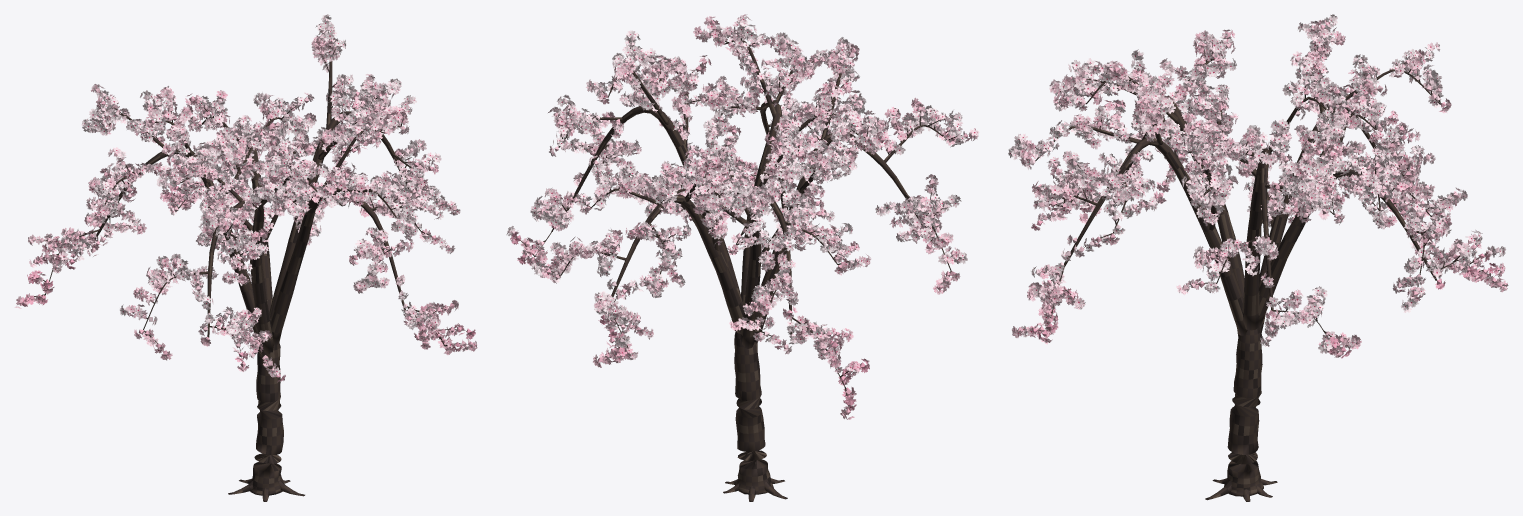
Rendered from cherry-upright.glb.
The picture shows the model from 3 angles, left to right: view 1: azimuth 30°, elevation 25°; view 2: azimuth 150°, elevation 25°; view 3: azimuth 270°, elevation 25°; orthographic projection. The views are drawn at different scales.
Visible parts, largest first — view 1: upright-03-Five-petal-blossoms, upright-01-Trunk-limbs-and-branches, upright-02-Twigs-and-pedicels; view 2: upright-03-Five-petal-blossoms, upright-01-Trunk-limbs-and-branches, upright-02-Twigs-and-pedicels; view 3: upright-03-Five-petal-blossoms, upright-01-Trunk-limbs-and-branches, upright-02-Twigs-and-pedicels.
Part boxes in pixels (x1,y1,x2,y2): upright-03-Five-petal-blossoms: (14,14,477,382); upright-01-Trunk-limbs-and-branches: (45,46,444,501); upright-02-Twigs-and-pedicels: (29,25,467,367); upright-03-Five-petal-blossoms: (506,14,979,419); upright-01-Trunk-limbs-and-branches: (535,40,951,501); upright-02-Twigs-and-pedicels: (520,29,969,409); upright-03-Five-petal-blossoms: (1008,14,1508,358); upright-01-Trunk-limbs-and-branches: (1035,58,1469,501); upright-02-Twigs-and-pedicels: (1023,31,1497,347).
Bounding box in the file's own units: 7.61 × 8.45 × 8.
